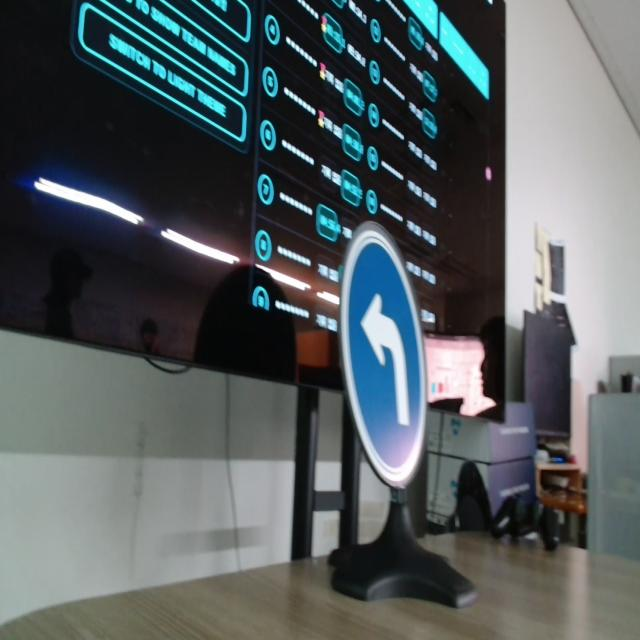left_direction: (336, 204, 451, 505)
